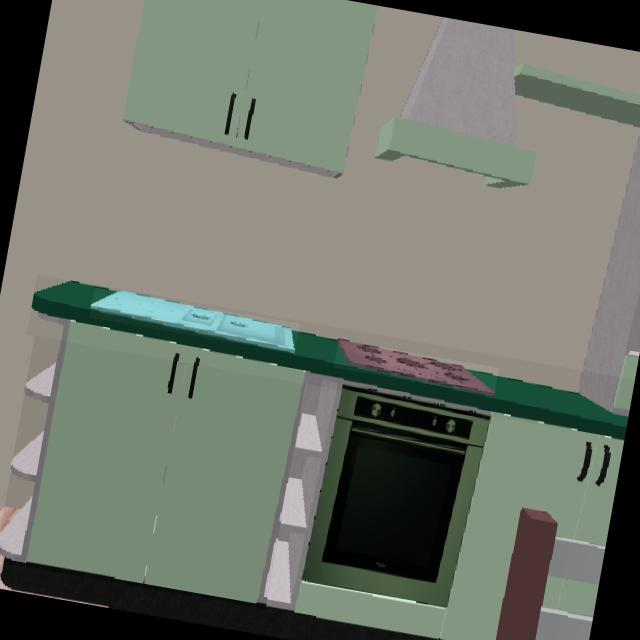cabinet: (0, 321, 306, 605), (119, 0, 374, 177)
countertop: (31, 281, 628, 440)
oven: (307, 392, 482, 603)
sink: (92, 292, 294, 353)
stove: (338, 339, 494, 395)
